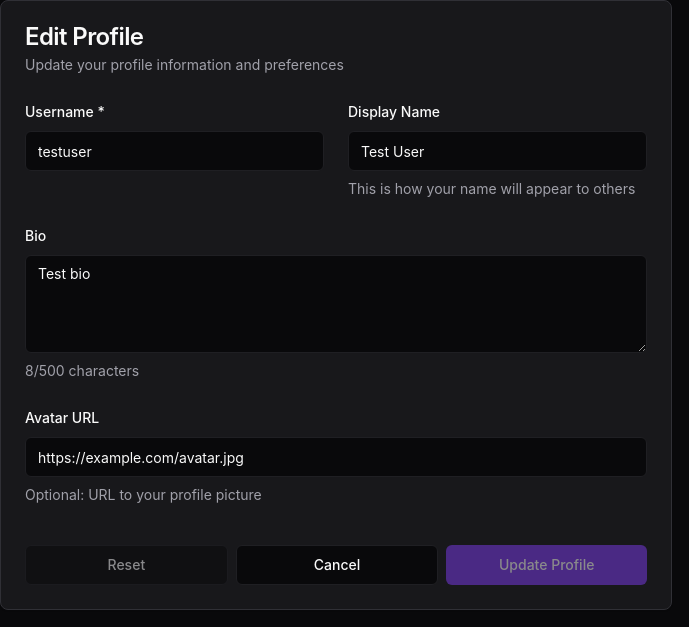
Test: UserProfileForm › validates username length
The width and height of the screenshot is (689, 627).
Replace the text in the field showing "testuser" with "ab" at x=174, y=151, box [25,131,324,171]
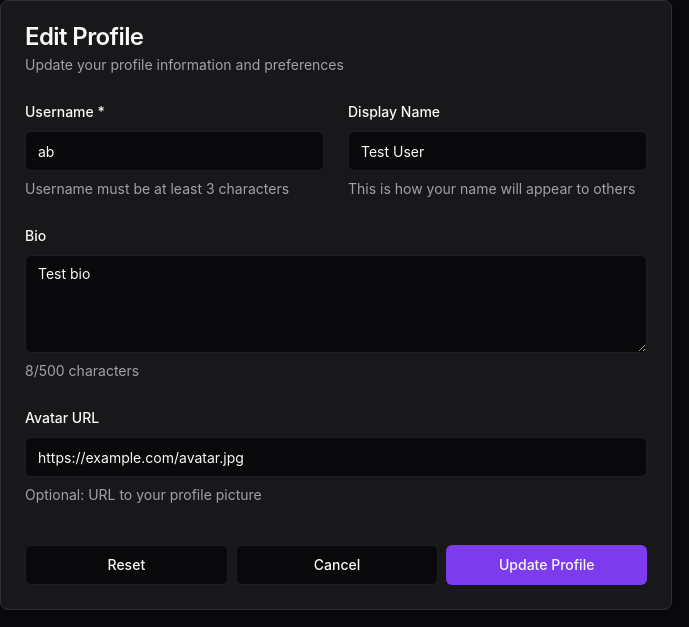
Check: the text "Username must be at least 3 characters" is shown, box [25,180,289,197]
